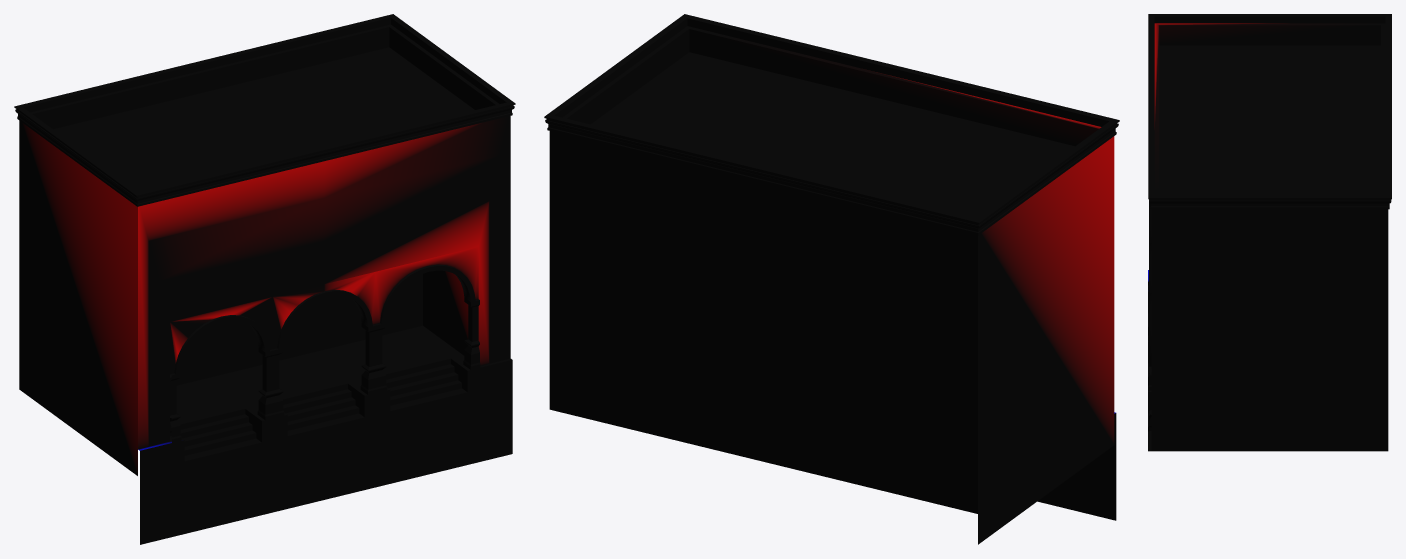
File: HouseIceCream.fbx
3 views of the same model, side by side, from view 1: azimuth 30°, elevation 25°; view 2: azimuth 150°, elevation 25°; view 3: azimuth 270°, elevation 25° (orthographic). The views are drawn at different scales.
Parts seen in each view (by area): view 1: HouseIceCream; view 2: HouseIceCream; view 3: HouseIceCream.
Part boxes in pixels (x1,y1,x2,y2): HouseIceCream: (14, 14, 515, 544); HouseIceCream: (544, 14, 1119, 544); HouseIceCream: (1148, 14, 1391, 451).
Size of the model in its own units: 1474 by 1300 by 824.
